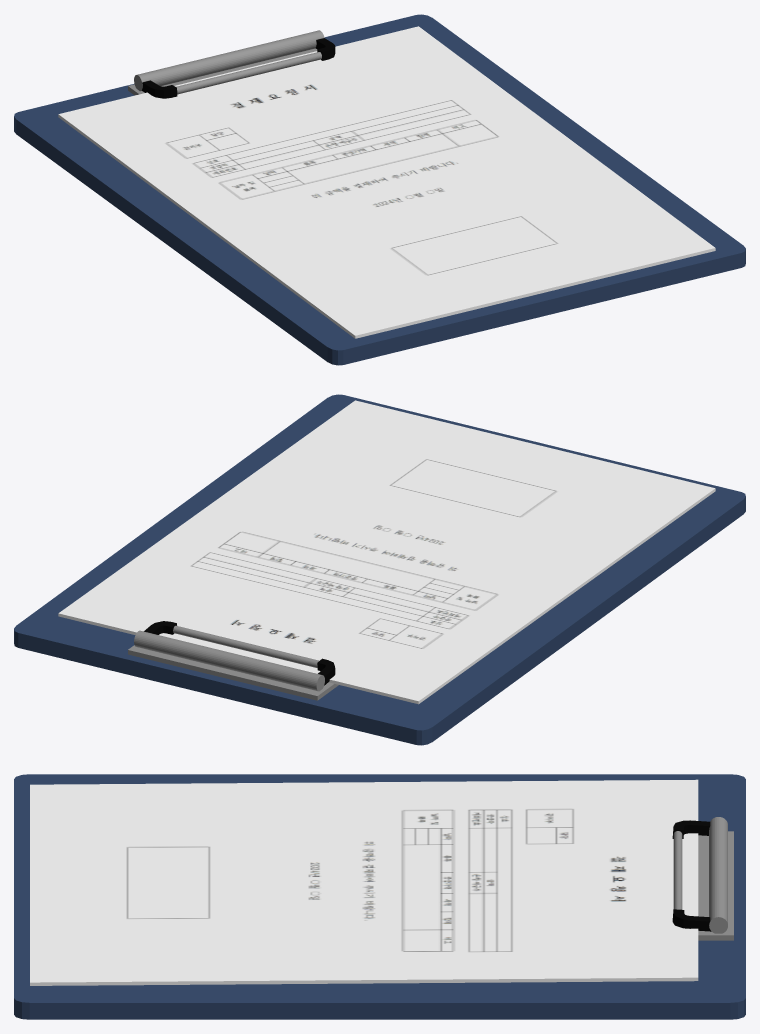
The model's file is 0422document.fbx.
The picture shows the model from 3 angles, top to bottom: view 1: azimuth 30°, elevation 25°; view 2: azimuth 150°, elevation 25°; view 3: azimuth 270°, elevation 25°; orthographic projection. The views are drawn at different scales.
Parts seen in each view (by area): view 1: paper, Cube, Cylinder.001, Cylinder, Cube.001; view 2: paper, Cube, Cylinder.001, Cube.001, Cylinder; view 3: paper, Cube, Cylinder.001, Cube.001, Cylinder, Cube.003, Cube.002.
Part boxes in pixels (x1=…): paper: x1=58, y1=26, x2=715, y2=338; Cube: x1=14, y1=14, x2=745, y2=365; Cylinder.001: x1=134, y1=30, x2=324, y2=91; Cylinder: x1=176, y1=52, x2=321, y2=94; Cube.001: x1=128, y1=48, x2=317, y2=95; paper: x1=58, y1=400, x2=715, y2=704; Cube: x1=14, y1=394, x2=745, y2=745; Cylinder.001: x1=134, y1=630, x2=324, y2=691; Cube.001: x1=128, y1=645, x2=338, y2=700; Cylinder: x1=173, y1=625, x2=319, y2=667; paper: x1=30, y1=779, x2=698, y2=985; Cube: x1=14, y1=774, x2=745, y2=1019; Cylinder.001: x1=709, y1=817, x2=727, y2=933; Cube.001: x1=698, y1=831, x2=733, y2=940; Cylinder: x1=673, y1=831, x2=682, y2=909; Cube.003: x1=672, y1=909, x2=711, y2=931; Cube.002: x1=672, y1=820, x2=710, y2=838.
Size of the model in its own units: 15.08 by 1.18 by 20.41.
